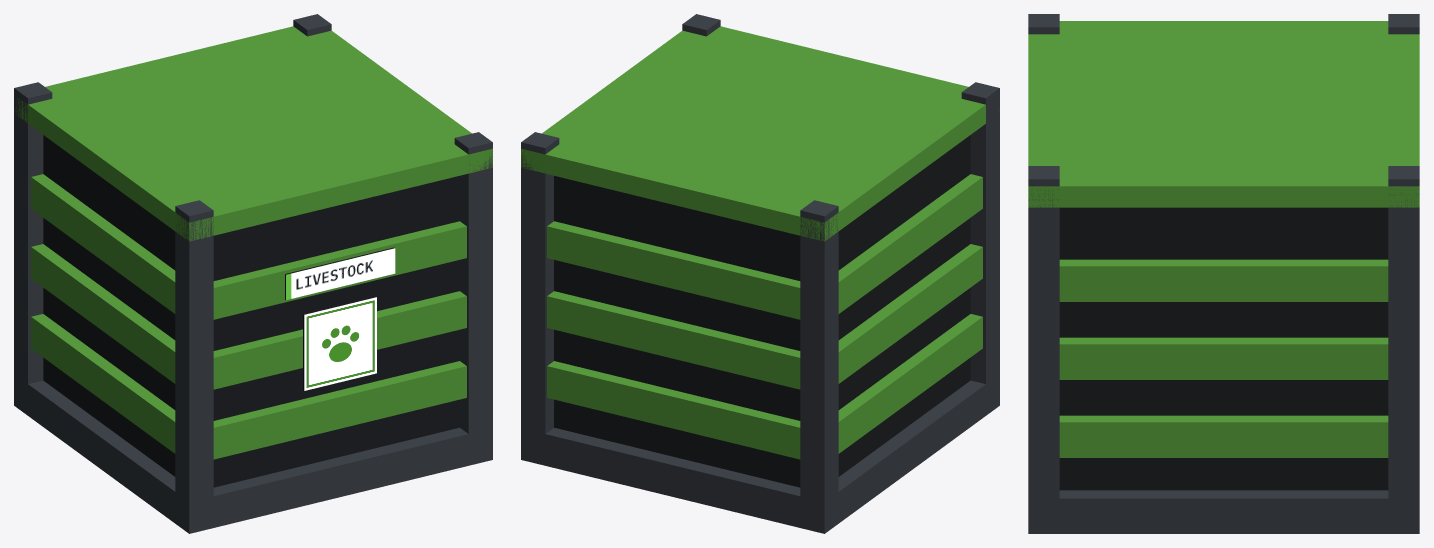
Rendered from cargo_06_livestock.glb.
3 renders of one model, left to right at view 1: azimuth 30°, elevation 25°; view 2: azimuth 150°, elevation 25°; view 3: azimuth 270°, elevation 25°, orthographic. The views are drawn at different scales.
Visible parts, largest first — view 1: roof, stall, floor, slat_ring_1, slat_ring_3, slat_ring_2, post_3, post_4, post_1, placard_front, manifest, post_2; view 2: roof, stall, floor, slat_ring_2, slat_ring_3, slat_ring_1, post_1, post_2, post_3, post_4; view 3: roof, stall, floor, slat_ring_1, slat_ring_2, slat_ring_3, post_2, post_4, post_1, post_3.
Part boxes in pixels (left/top/right/bottom): roof: left=14, top=26, right=492, bottom=241; stall: left=43, top=135, right=459, bottom=487; floor: left=14, top=374, right=492, bottom=533; slat_ring_1: left=31, top=314, right=466, bottom=459; slat_ring_3: left=31, top=174, right=466, bottom=319; slat_ring_2: left=31, top=244, right=466, bottom=389; post_3: left=175, top=200, right=213, bottom=533; post_4: left=454, top=132, right=492, bottom=460; post_1: left=14, top=82, right=52, bottom=415; placard_front: left=303, top=296, right=376, bottom=390; manifest: left=285, top=247, right=395, bottom=299; post_2: left=293, top=14, right=331, bottom=36; roof: left=521, top=26, right=985, bottom=241; stall: left=554, top=135, right=970, bottom=487; floor: left=521, top=374, right=999, bottom=533; slat_ring_2: left=547, top=244, right=982, bottom=389; slat_ring_3: left=547, top=174, right=982, bottom=319; slat_ring_1: left=547, top=314, right=982, bottom=459; post_1: left=800, top=200, right=838, bottom=533; post_2: left=521, top=132, right=559, bottom=459; post_3: left=961, top=82, right=999, bottom=415; post_4: left=682, top=14, right=720, bottom=36; roof: left=1028, top=21, right=1419, bottom=207; stall: left=1059, top=207, right=1388, bottom=490; floor: left=1028, top=490, right=1419, bottom=533; slat_ring_1: left=1059, top=415, right=1388, bottom=457; slat_ring_2: left=1059, top=337, right=1388, bottom=379; slat_ring_3: left=1059, top=259, right=1388, bottom=301; post_2: left=1388, top=166, right=1419, bottom=533; post_4: left=1028, top=166, right=1059, bottom=533; post_1: left=1388, top=14, right=1419, bottom=34; post_3: left=1028, top=14, right=1059, bottom=34.
Bounding box in the file's own units: 1 × 1 × 1.
Materials: 6 (2 with a texture image).
